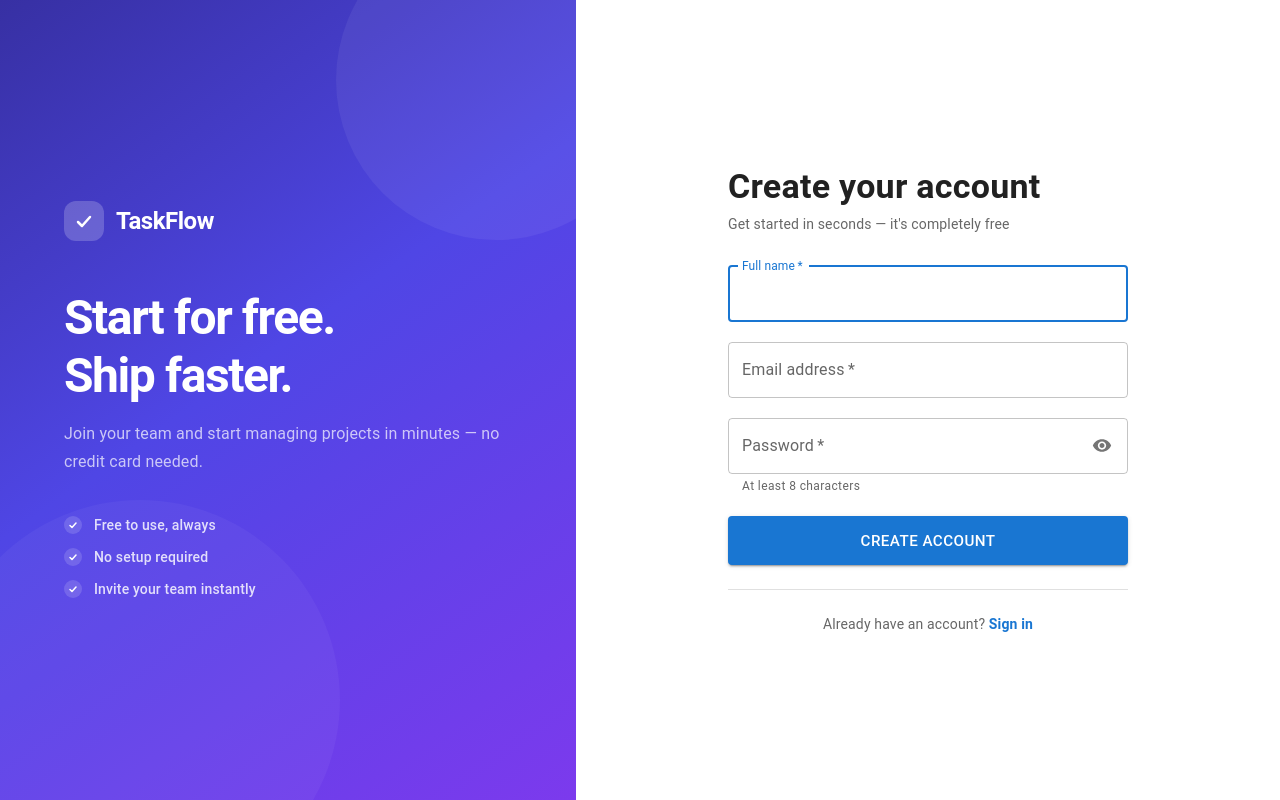
it: RegisterPage › shows API error alert on failed registration
This screenshot has width=1280, height=800.
Type "Alice" into the field labelled "Full name *" at (928, 294), box [728,266,1128,322]
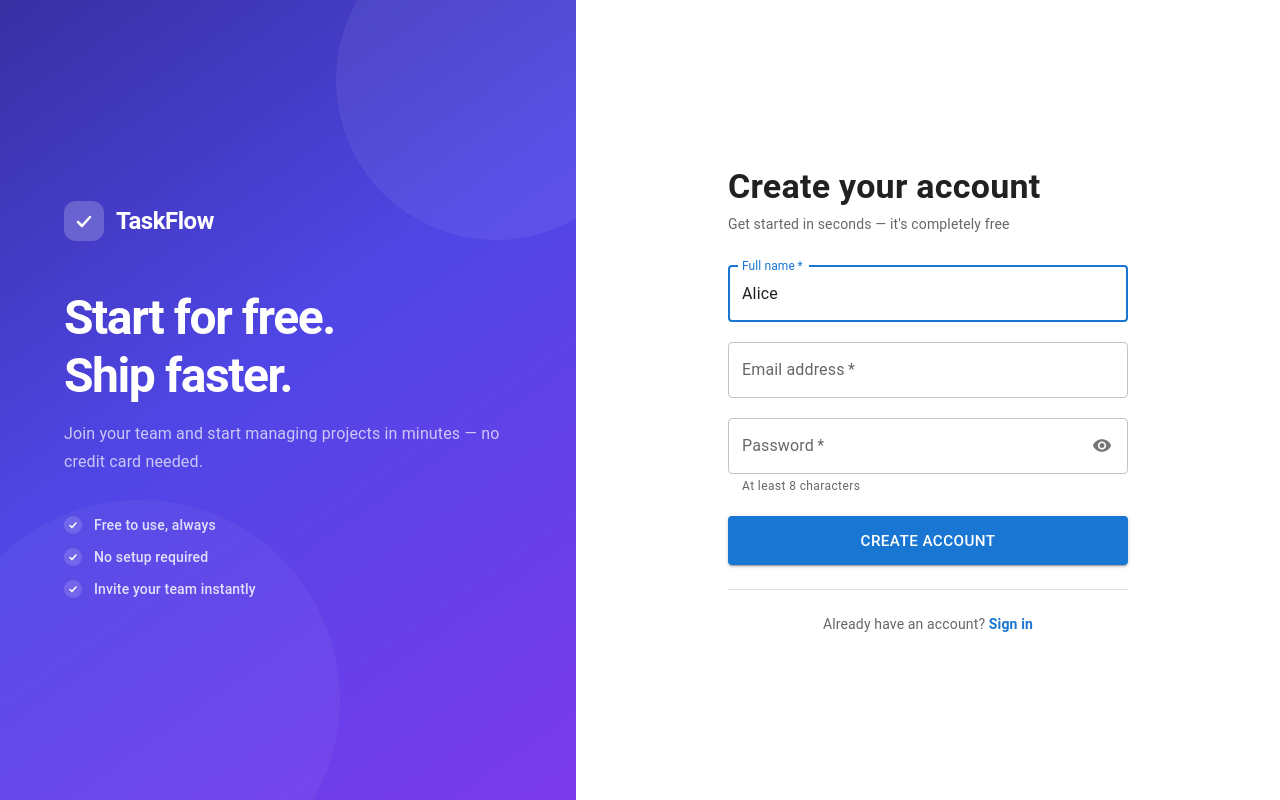
Type "alice@example.com" into the field labelled "Email address *" at (928, 370), box [728,342,1128,398]
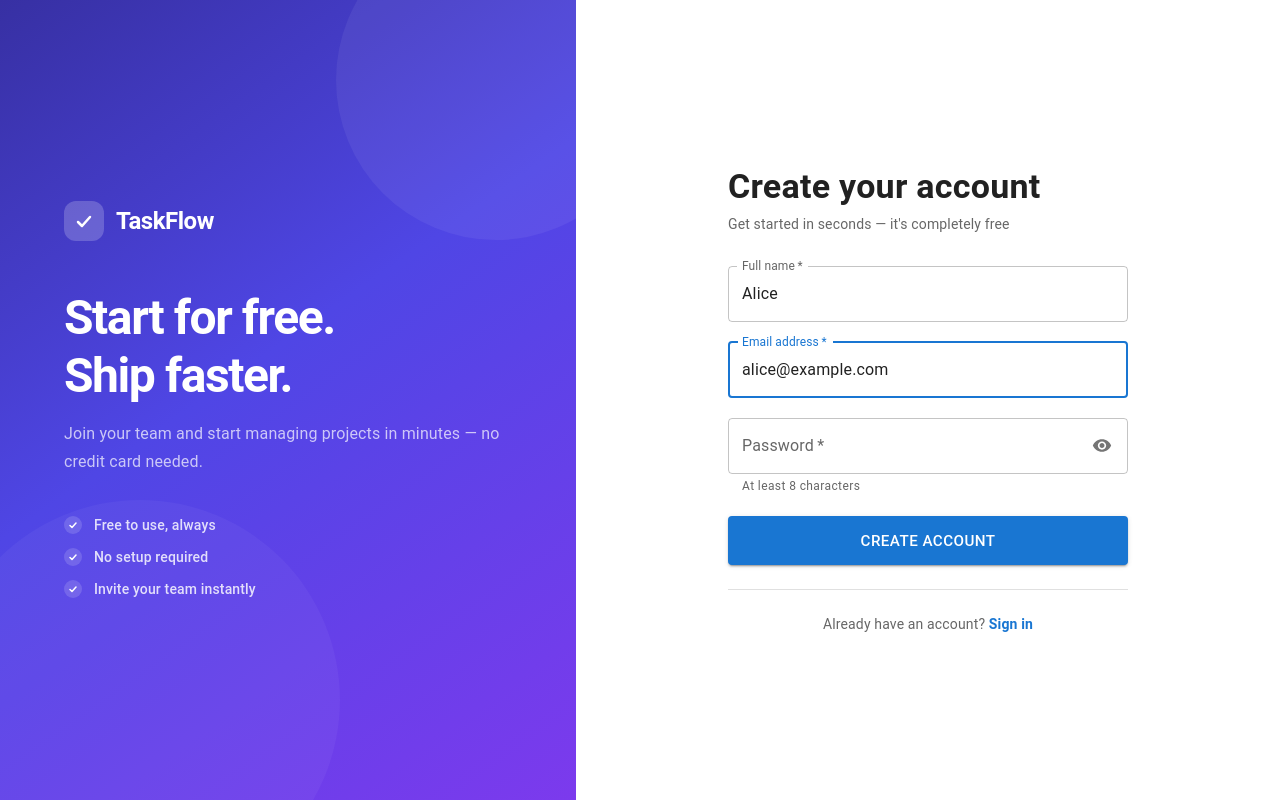
Type "password123" into the password field labelled "Password *" at (904, 446), box [728,418,1079,474]
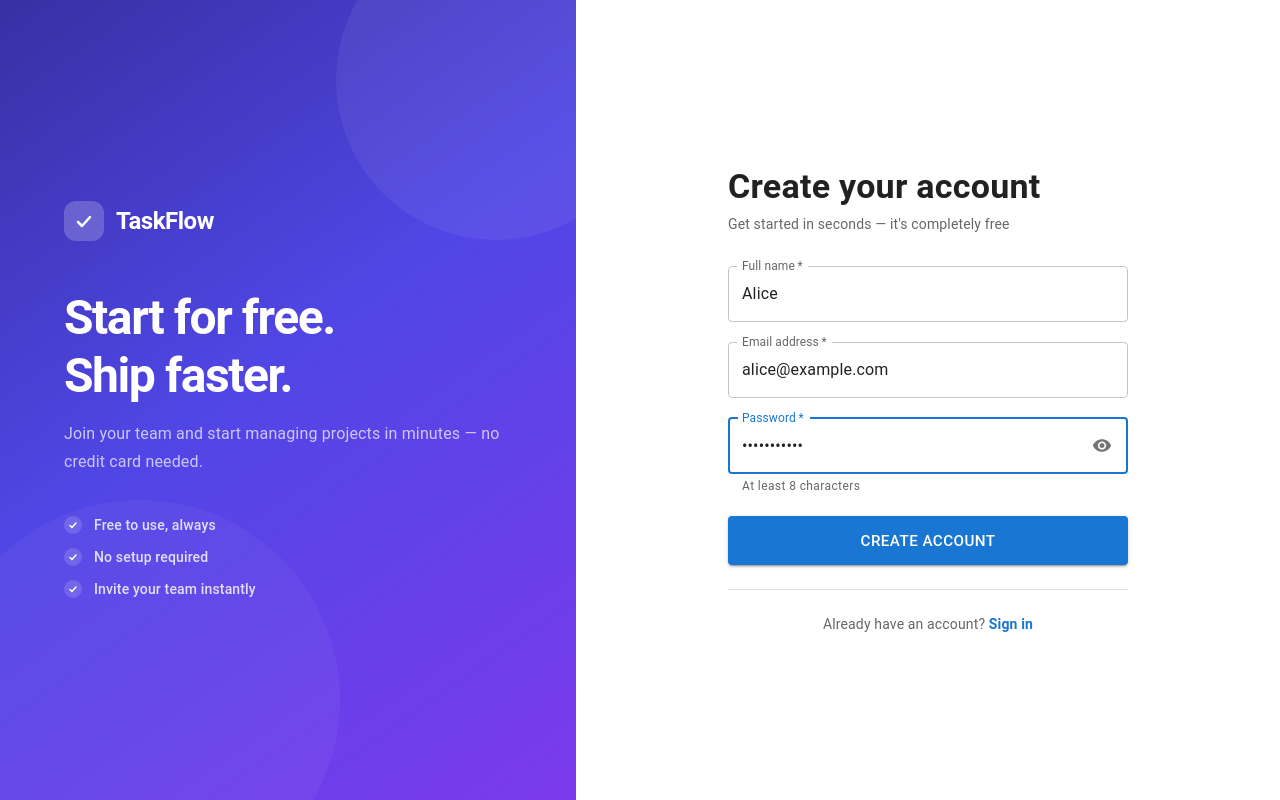
Click the button "Create account" at (928, 541), box [728,516,1128,566]
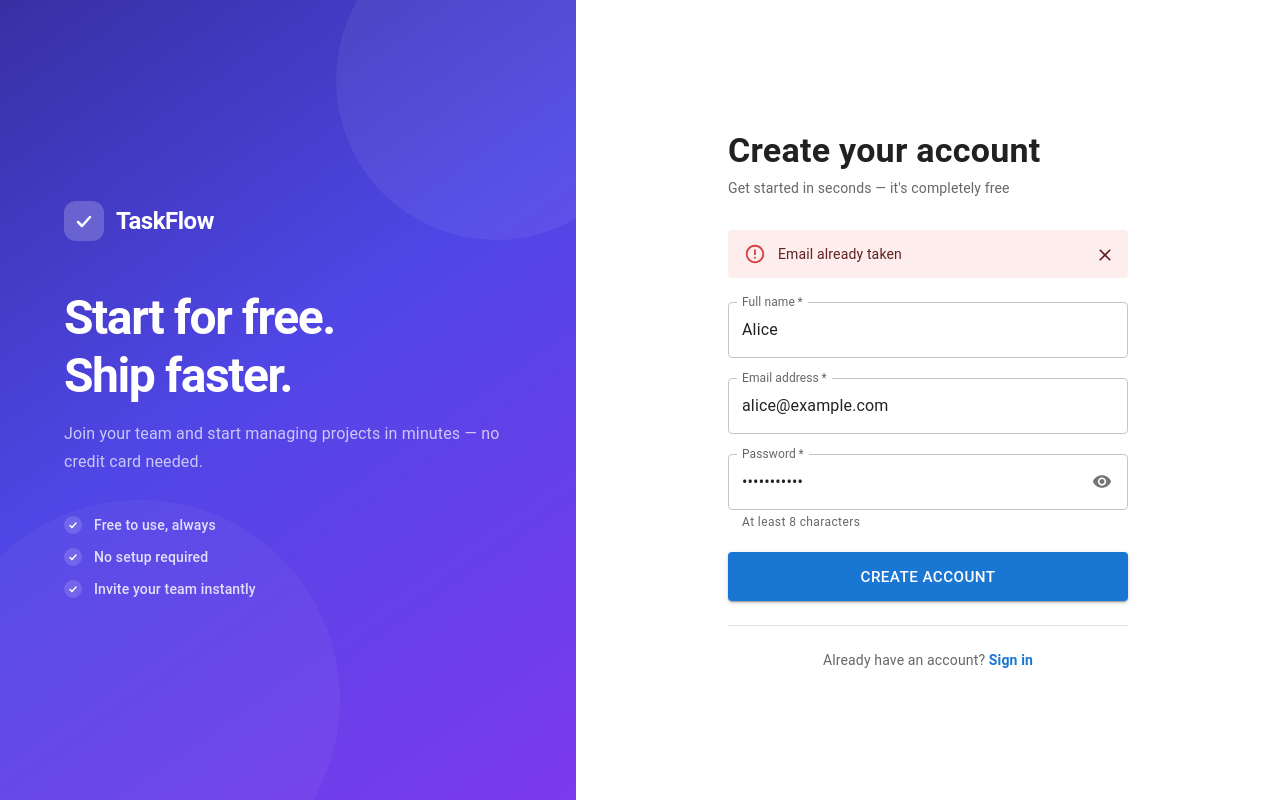
Result: the text "Email already taken" is shown at [778,246,902,262]
